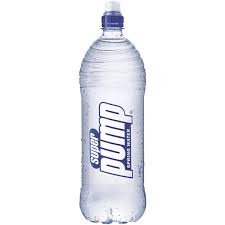bottle: (72, 1, 157, 224)
